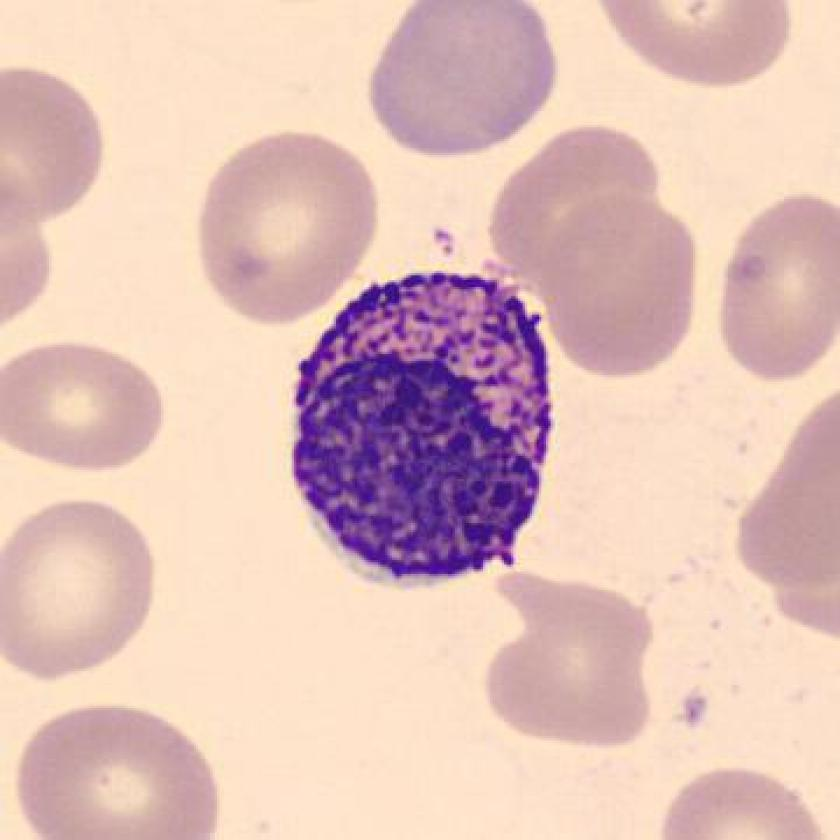basophil: (288, 265, 554, 593)
